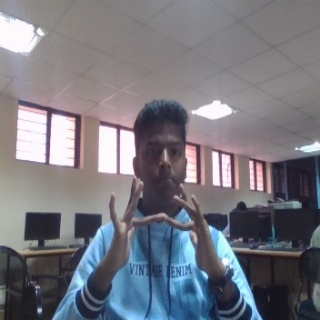Internet: (99, 173, 222, 279)
